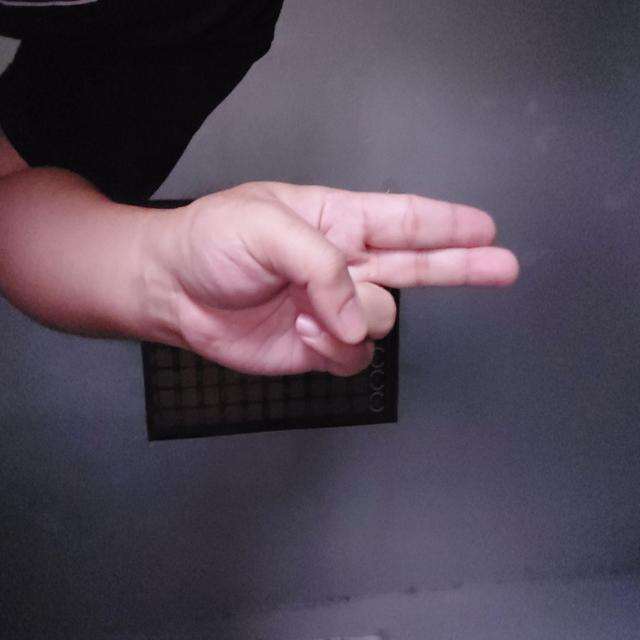U: (178, 120, 377, 478)
